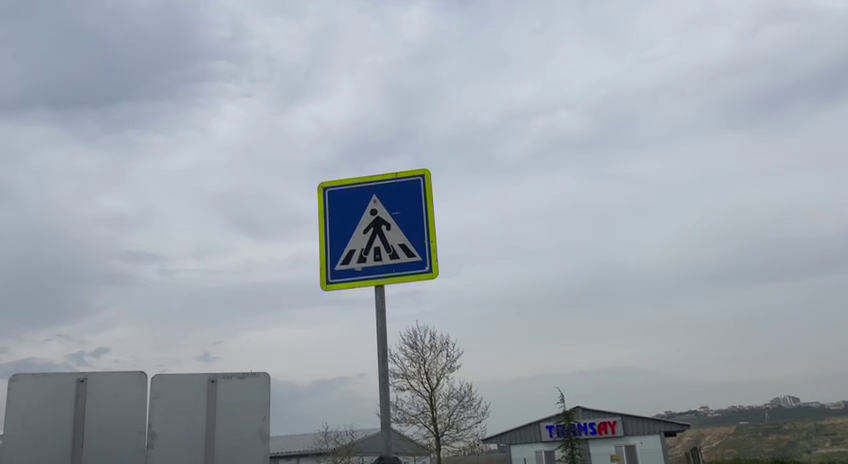pedestrianCrossing: (313, 167, 442, 293)
